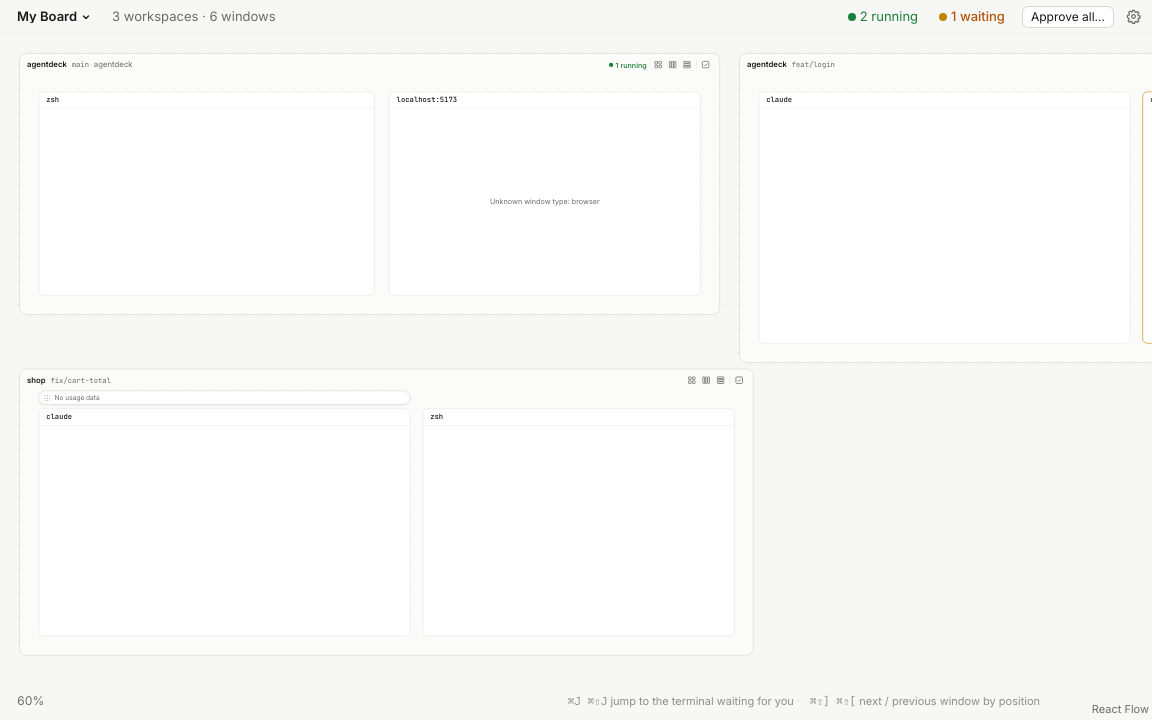
Scenario: PL2 the popover › no data: the card says so with the reason and still offers Move and Hide
The image size is (1152, 720).
Click the button with class "ad-usage-body" at x=77, y=397, box left=55, top=391, right=407, bottom=404
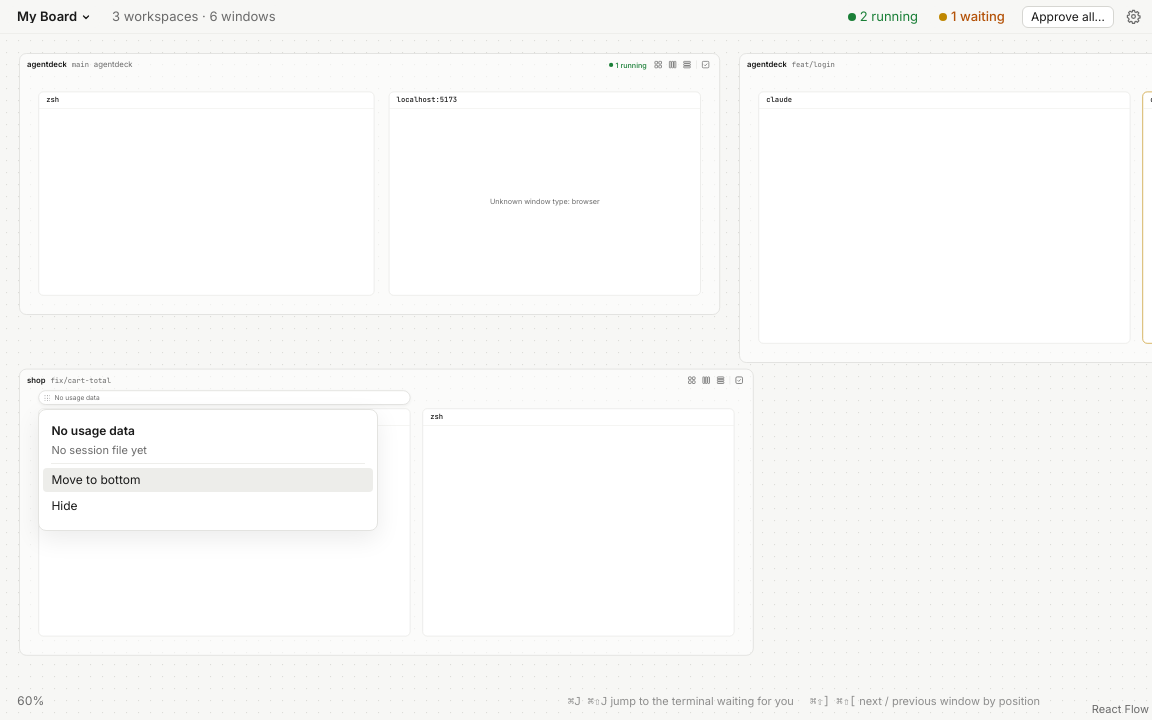
expect the 2nd text "No usage data" is shown: met, box left=51, top=423, right=135, bottom=438
expect the text "No session file yet" is shown: met, box left=51, top=443, right=147, bottom=457
expect the button "Hide" is shown: met, box left=43, top=494, right=373, bottom=518
